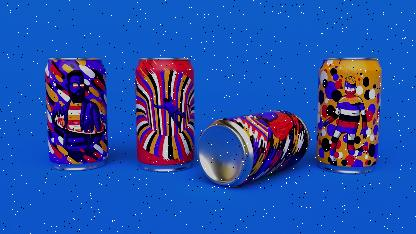Can: (197, 110, 310, 187), (317, 58, 382, 174), (45, 58, 108, 170), (135, 58, 194, 171)
